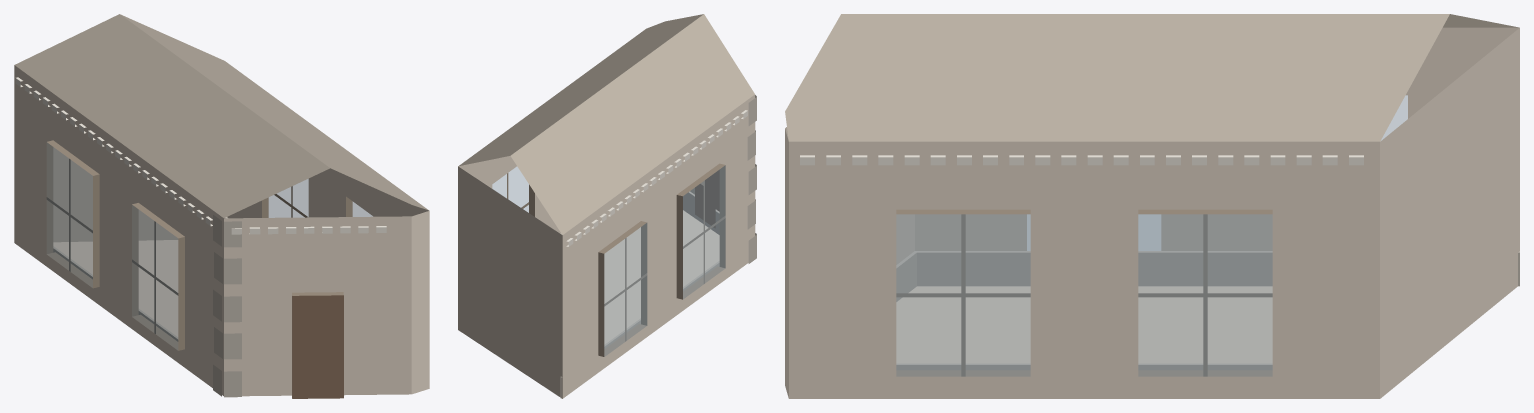
3 views of the same model, side by side, from view 1: azimuth 30°, elevation 25°; view 2: azimuth 150°, elevation 25°; view 3: azimuth 270°, elevation 25° (orthographic). The views are drawn at different scales.
Parts seen in each view (by area): view 1: S-43; view 2: S-43; view 3: S-43.
Boxes of the visible parts, left/top/right/bottom form: S-43: left=14, top=14, right=429, bottom=398; S-43: left=458, top=14, right=756, bottom=398; S-43: left=785, top=14, right=1519, bottom=398.
Bounding box in the file's own units: 3.92 × 4.84 × 9.84.
